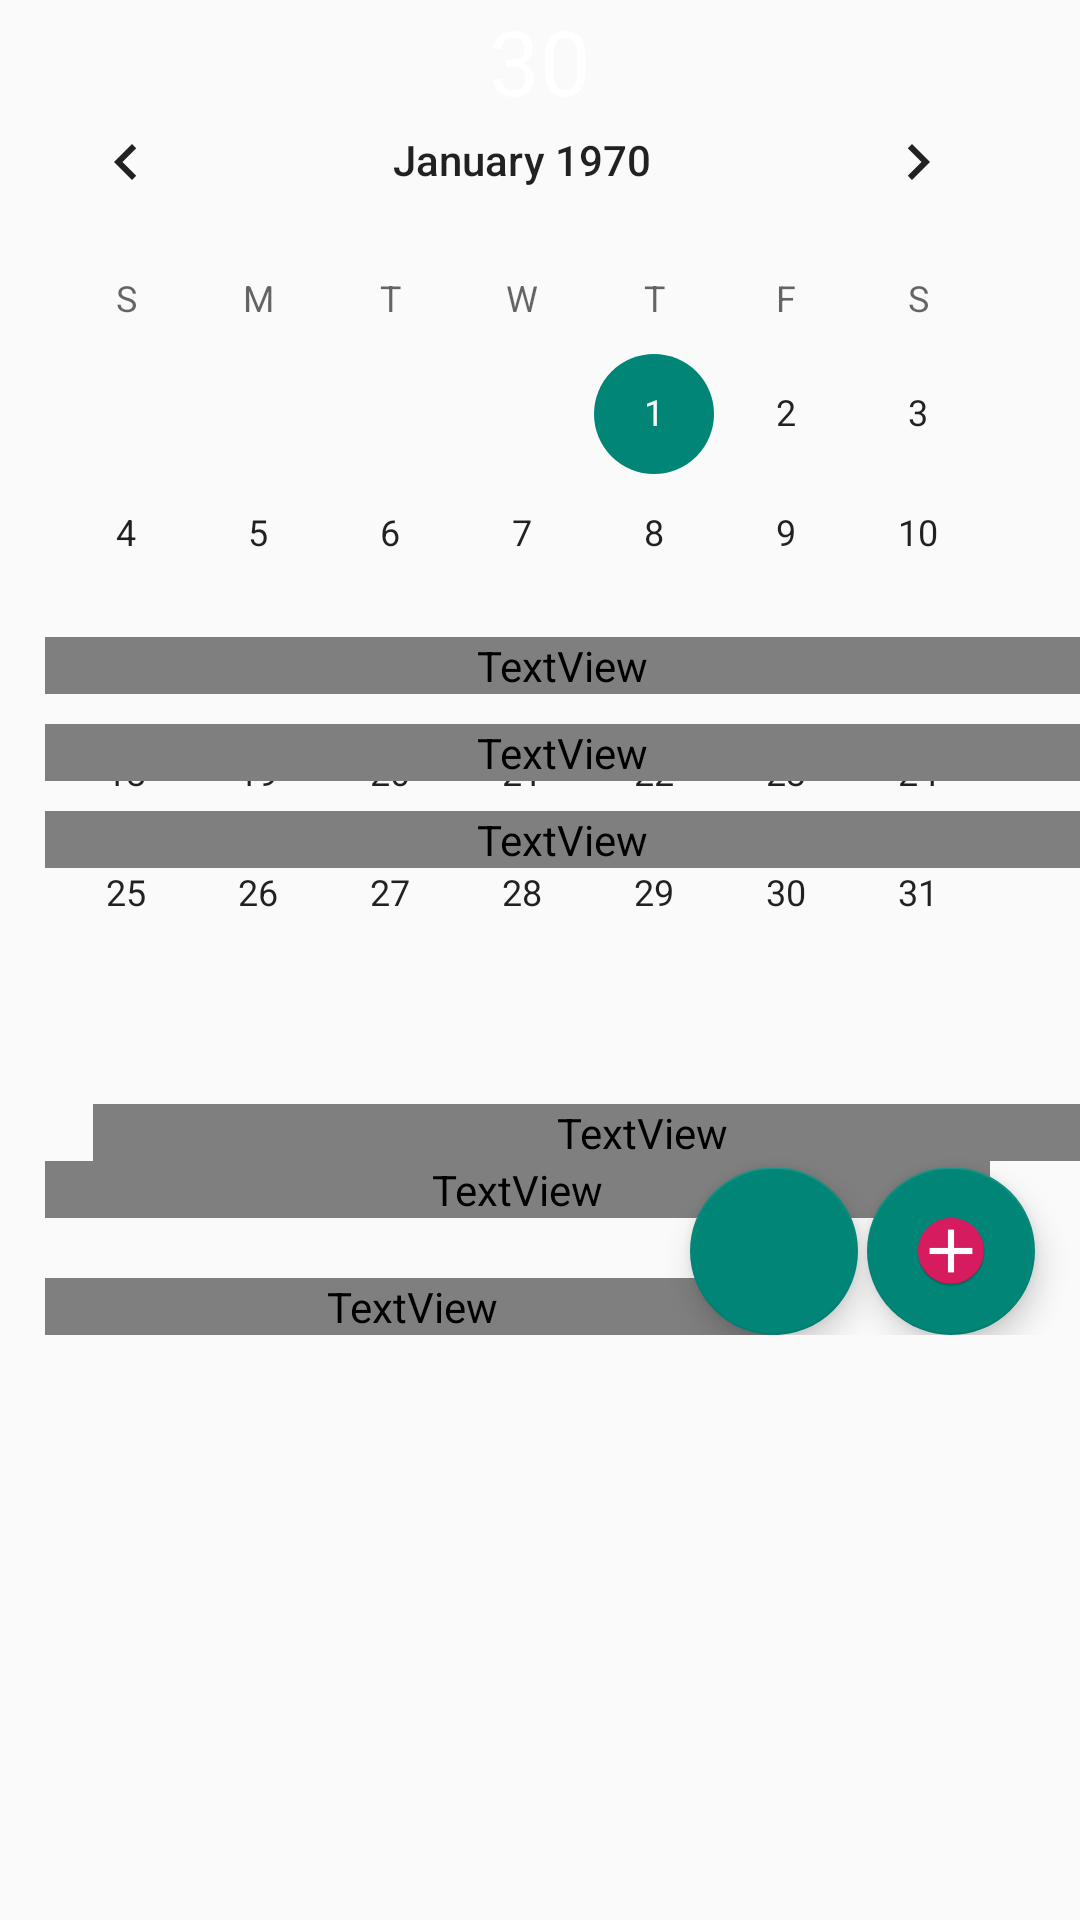

Locate icon controls on the screen. Image size 1080x1920, boxes as (x1, y1, x2, y2).
plus floating: (867, 1167, 1035, 1335)
